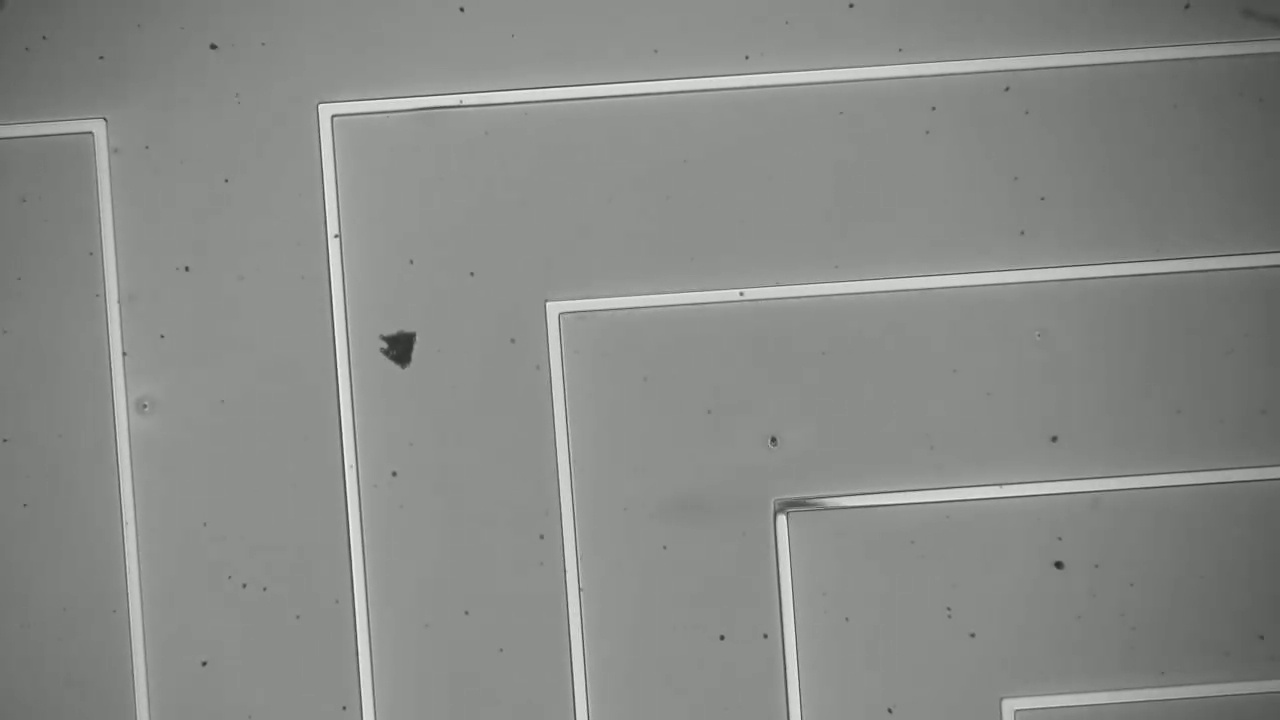gray_line: (759, 481, 849, 528)
